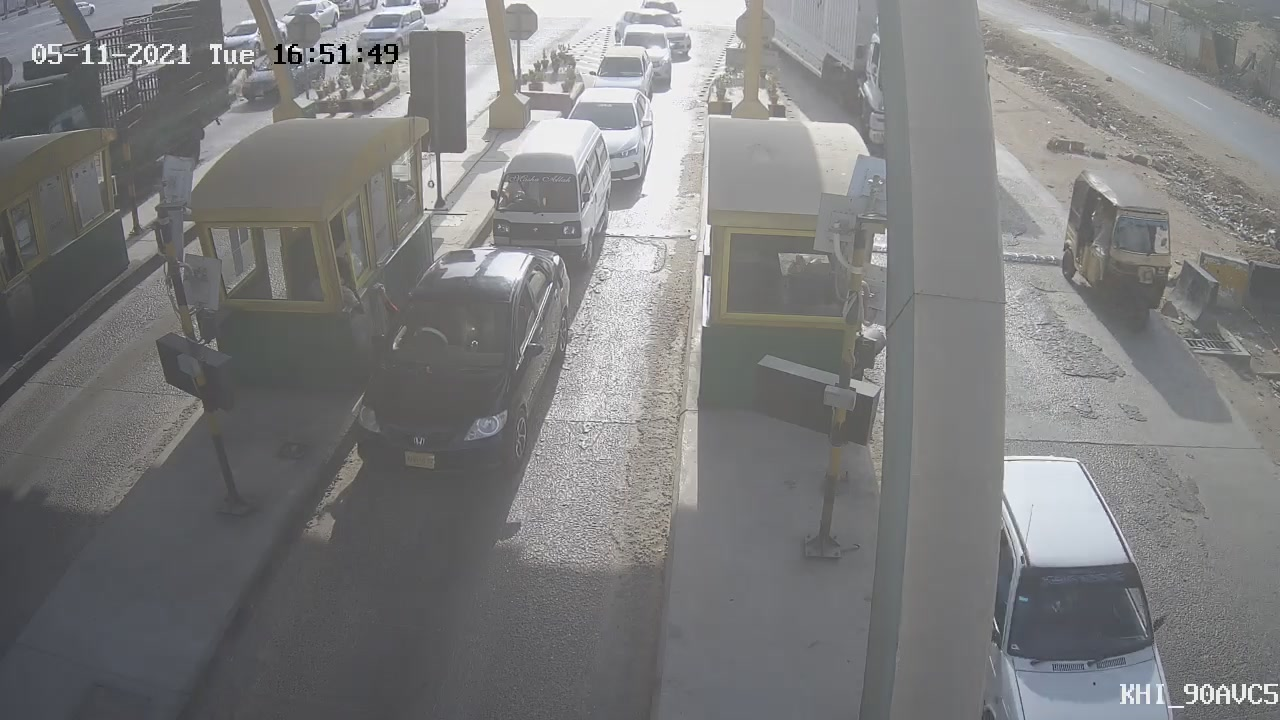F1: (329, 229, 590, 501), (470, 108, 629, 292)
